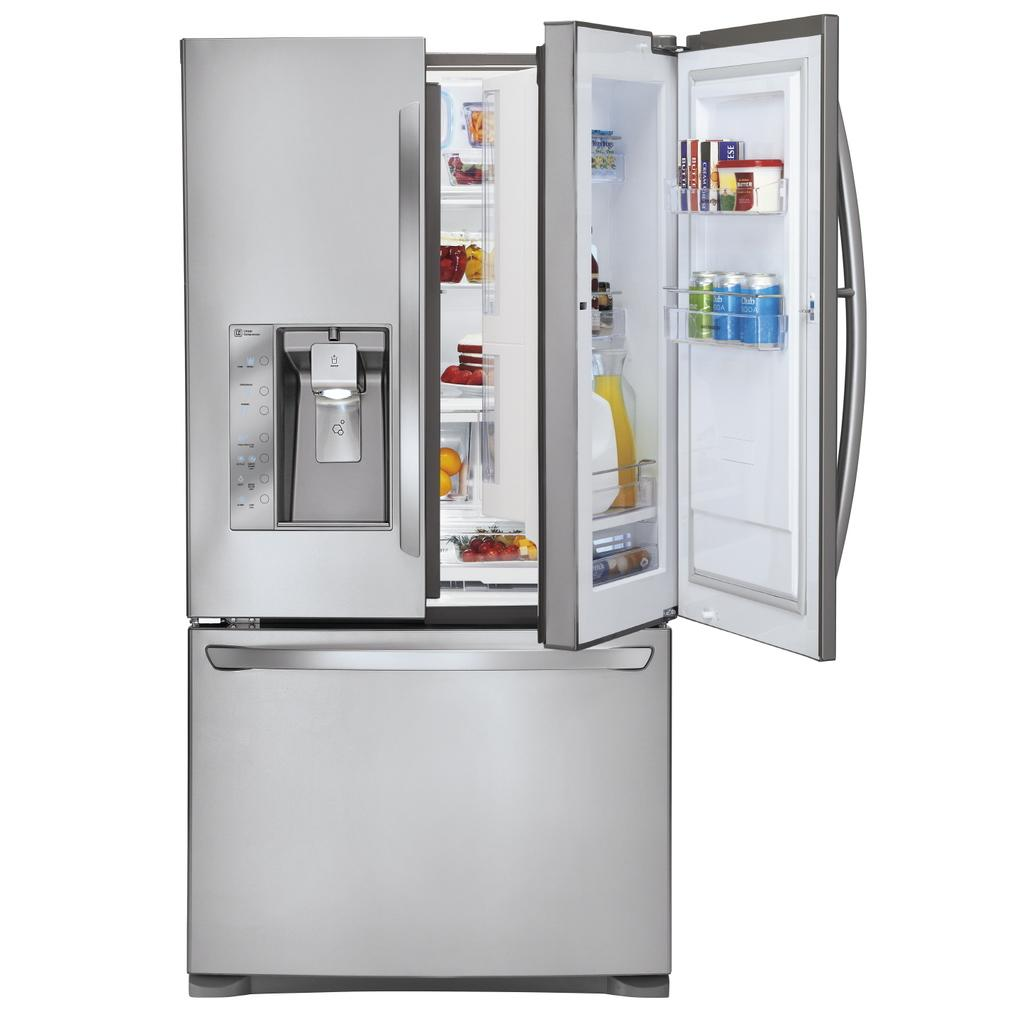handle: (836, 106, 878, 550), (208, 646, 650, 678), (395, 108, 425, 546)
